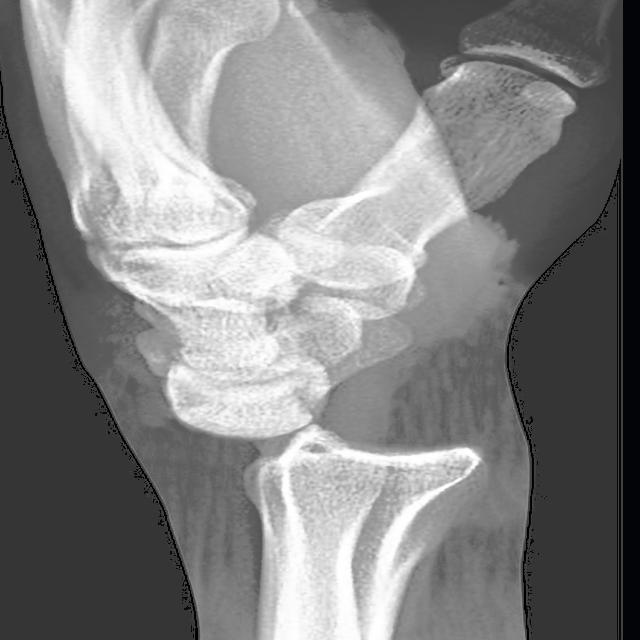Fracture Dislocation: (186, 389, 484, 482)
